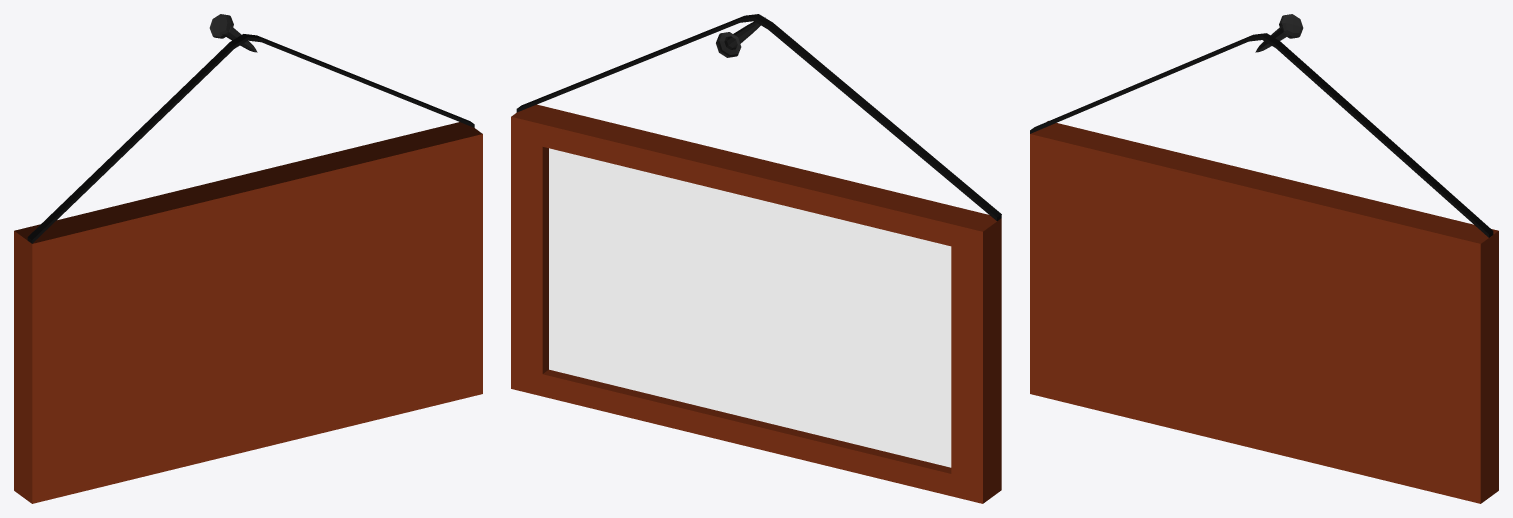
Rendered from Picture Frame 7.fbx.
3 views of the same model, side by side, from view 1: azimuth 30°, elevation 25°; view 2: azimuth 150°, elevation 25°; view 3: azimuth 330°, elevation 25° (orthographic). The views are drawn at different scales.
Visible parts, largest first — view 1: Node 0; view 2: Node 0; view 3: Node 0.
Boxes of the visible parts, bbox=[...] form: Node 0: bbox=[14, 14, 482, 503]; Node 0: bbox=[511, 14, 1001, 503]; Node 0: bbox=[1030, 14, 1498, 503].
Size of the model in its own units: 0.1416 by 0.8389 by 0.9688.
